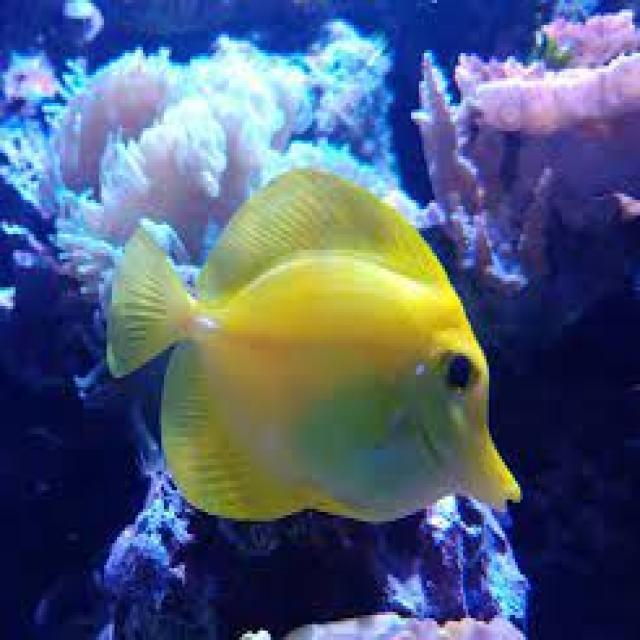TangFish: (102, 166, 520, 523)
